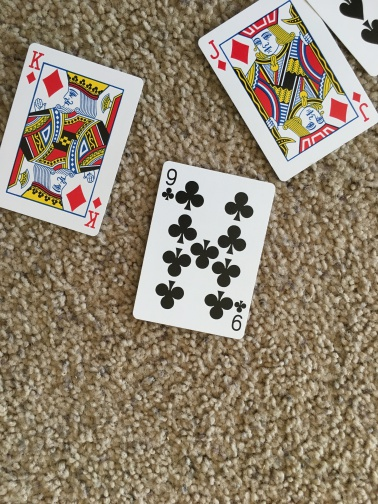jack: (198, 1, 378, 181)
king: (1, 44, 143, 236)
nine: (132, 159, 277, 338)
